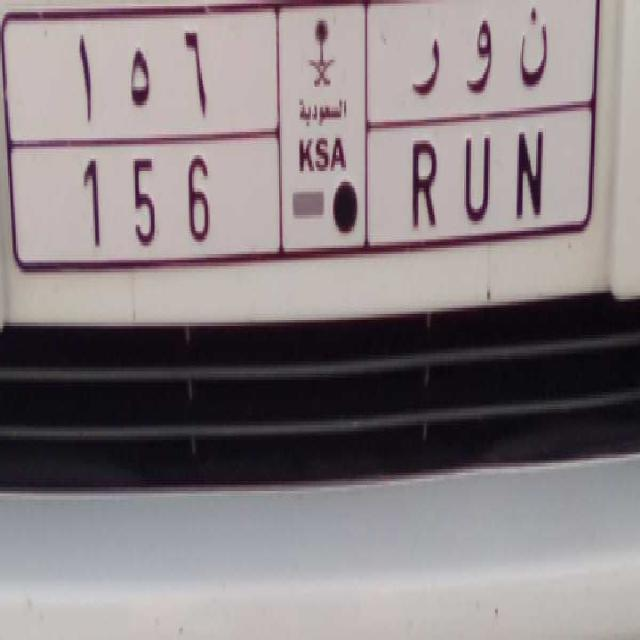license_plate: (57, 116, 568, 254)
